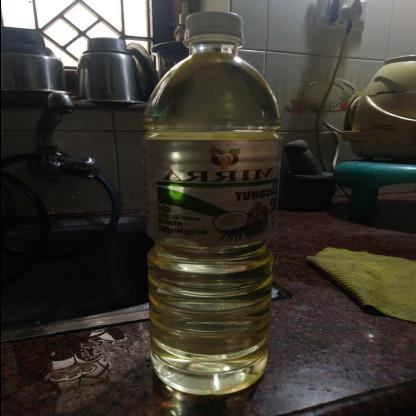bottle: (12, 101, 416, 209)
